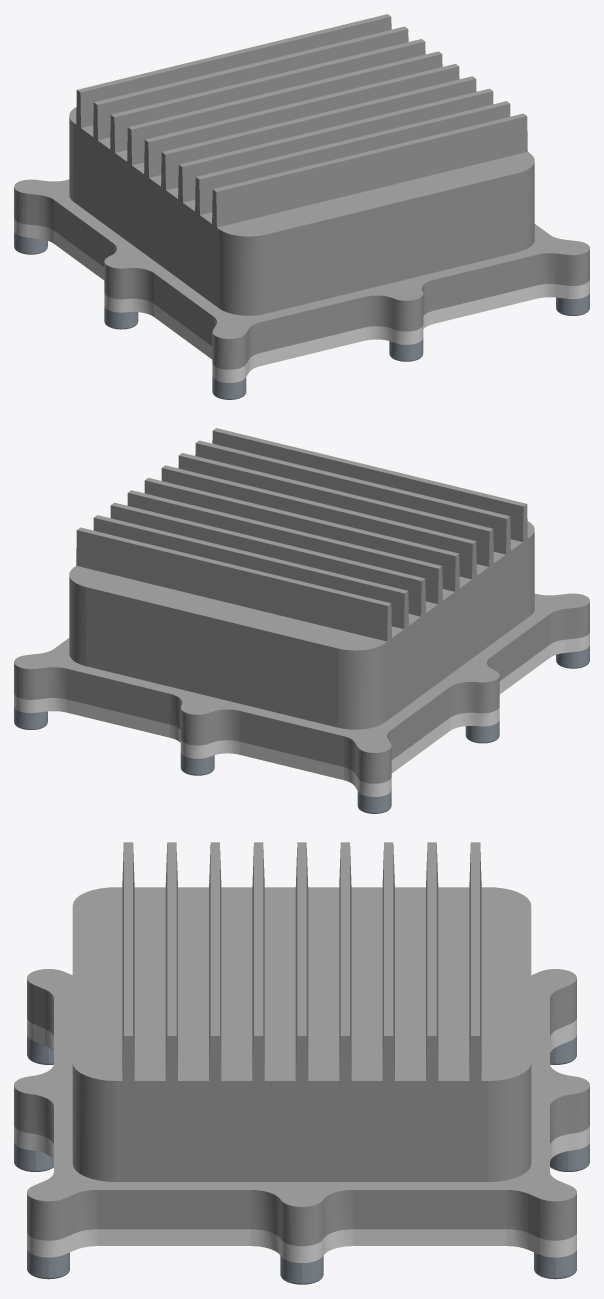
The model's file is enclosure.glb.
3 renders of one model, top to bottom at view 1: azimuth 30°, elevation 25°; view 2: azimuth 150°, elevation 25°; view 3: azimuth 270°, elevation 25°, orthographic. The views are drawn at different scales.
Visible parts, largest first — view 1: Part 1, Part 3, Hex socket head cap screw M4x0.70 x 8 (×5); view 2: Part 1, Part 3, Hex socket head cap screw M4x0.70 x 8 (×5); view 3: Part 1, Part 3, Hex socket head cap screw M4x0.70 x 8 (×5).
Part boxes in pixels (left/top/right/bottom): Part 1: left=14, top=14, right=589, bottom=369; Part 3: left=14, top=218, right=589, bottom=382; Hex socket head cap screw M4x0.70 x 8 (×5): left=14, top=231, right=589, bottom=399; Part 1: left=14, top=428, right=589, bottom=783; Part 3: left=14, top=632, right=589, bottom=796; Hex socket head cap screw M4x0.70 x 8 (×5): left=14, top=646, right=589, bottom=813; Part 1: left=14, top=842, right=589, bottom=1246; Part 3: left=14, top=1018, right=589, bottom=1262; Hex socket head cap screw M4x0.70 x 8 (×5): left=14, top=1143, right=589, bottom=1284.
Bounding box in the file's own units: 93 × 40 × 92.95.
